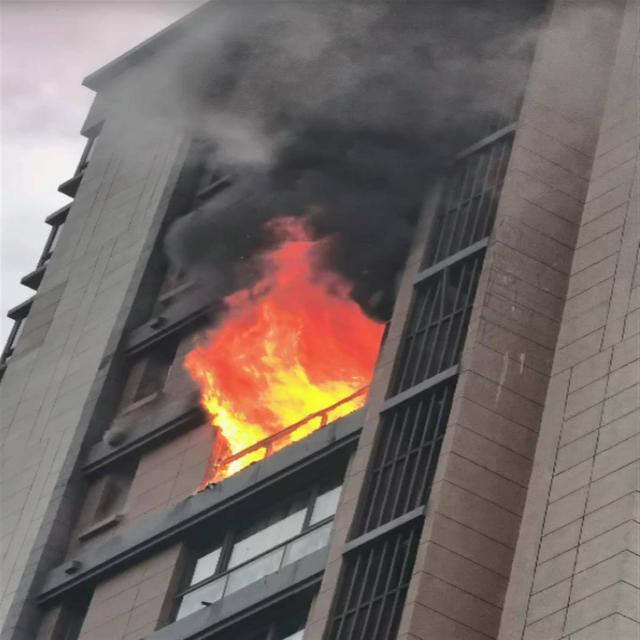Fire: (180, 238, 381, 466)
Smoke: (183, 3, 537, 220)
